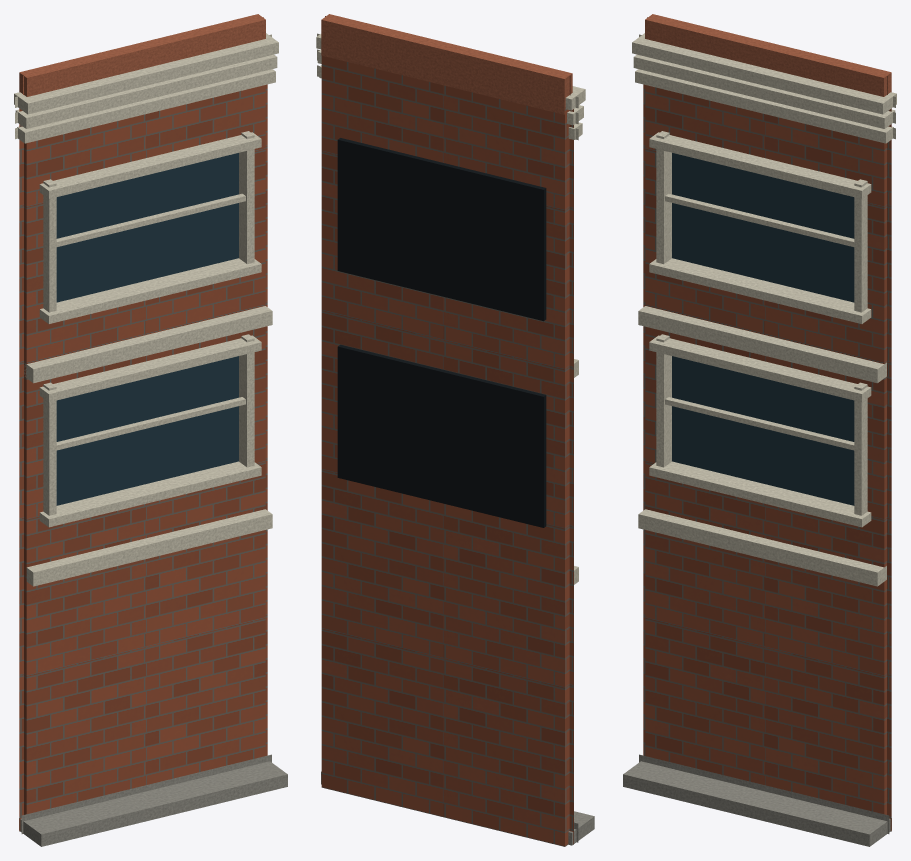
File: WRHS3_lod2.glb
The picture shows the model from 3 angles, left to right: view 1: azimuth 30°, elevation 25°; view 2: azimuth 150°, elevation 25°; view 3: azimuth 330°, elevation 25°; orthographic projection.
Visible parts, largest first — view 1: WRHS3_FRONT_LOD2; view 2: WRHS3_FRONT_LOD2; view 3: WRHS3_FRONT_LOD2.
Boxes of the visible parts, <box> form: WRHS3_FRONT_LOD2: <box>14,14,287,846</box>; WRHS3_FRONT_LOD2: <box>316,14,594,846</box>; WRHS3_FRONT_LOD2: <box>623,14,896,846</box>.
Size of the model in its own units: 3.44 by 9.66 by 0.65.
7 materials, 5 textured.
